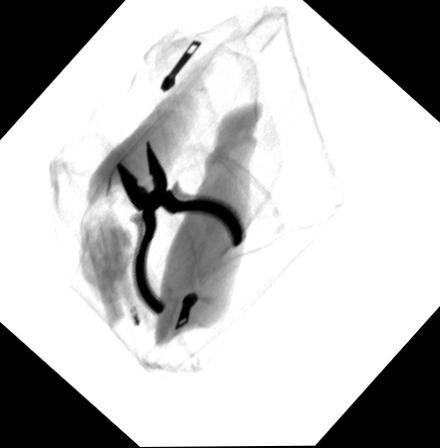Pliers: (114, 137, 247, 316)
